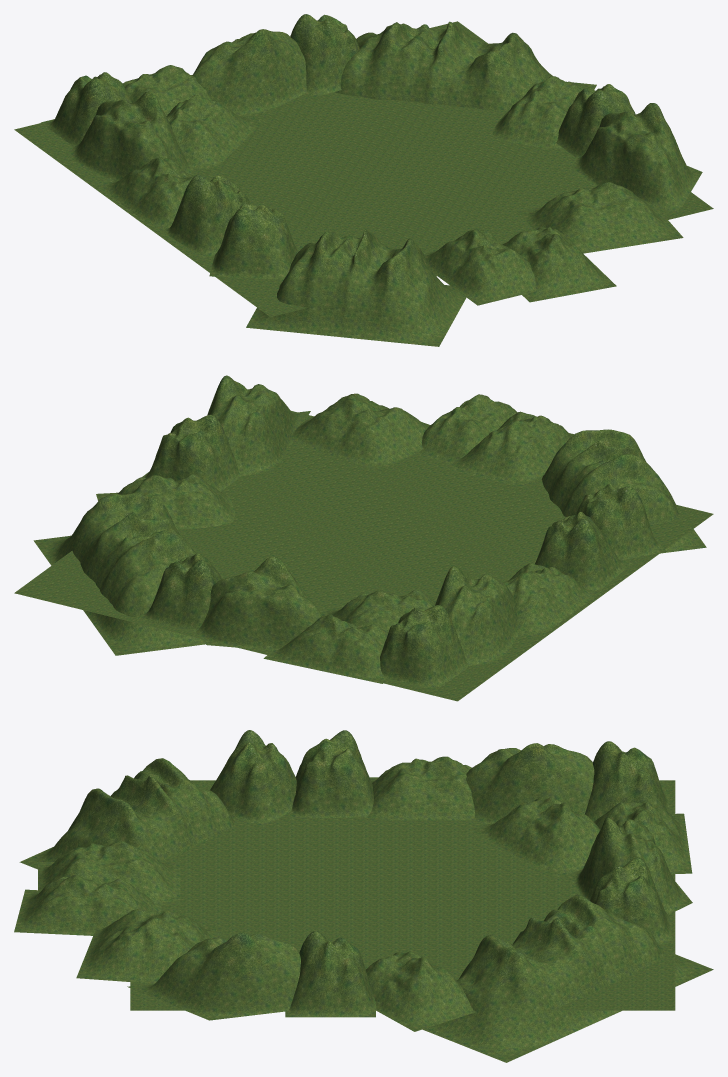
Rendered from Terreno_Pasdo_Plano.glb.
The picture shows the model from 3 angles, top to bottom: view 1: azimuth 30°, elevation 25°; view 2: azimuth 150°, elevation 25°; view 3: azimuth 270°, elevation 25°; orthographic projection. The views are drawn at different scales.
Visible parts, largest first — view 1: Plane, Retopo_Landscape.018, Retopo_Landscape.017, Retopo_Landscape.015, Retopo_Landscape.005, Retopo_Landscape.008, Retopo_Landscape.001, Retopo_Landscape.016, Retopo_Landscape.007, Retopo_Landscape.011, Retopo_Landscape.010, Retopo_Landscape.009 (+6 smaller); view 2: Plane, Retopo_Landscape.017, Retopo_Landscape.018, Retopo_Landscape.005, Retopo_Landscape.008, Retopo_Landscape.015, Retopo_Landscape.001, Retopo_Landscape.002, Retopo_Landscape.016, Retopo_Landscape.006, Retopo_Landscape.014, Retopo_Landscape.009 (+6 smaller); view 3: Plane, Retopo_Landscape.017, Retopo_Landscape.018, Retopo_Landscape.015, Retopo_Landscape.001, Retopo_Landscape.008, Retopo_Landscape.010, Retopo_Landscape.011, Retopo_Landscape.004, Retopo_Landscape.012, Retopo_Landscape.014, Retopo_Landscape.009 (+6 smaller).
Boxes of the visible parts, x1,y1,x2,y2 form: Plane: (14, 21, 713, 316); Retopo_Landscape.018: (246, 229, 466, 346); Retopo_Landscape.017: (335, 21, 596, 110); Retopo_Landscape.015: (569, 103, 702, 216); Retopo_Landscape.005: (192, 29, 306, 117); Retopo_Landscape.008: (517, 182, 683, 253); Retopo_Landscape.001: (65, 91, 193, 180); Retopo_Landscape.016: (423, 229, 538, 305); Retopo_Landscape.007: (209, 204, 303, 279); Retopo_Landscape.011: (502, 227, 616, 302); Retopo_Landscape.010: (166, 95, 264, 171); Retopo_Landscape.009: (164, 174, 250, 258); Plane: (14, 411, 713, 701); Retopo_Landscape.017: (33, 492, 205, 655); Retopo_Landscape.018: (542, 429, 706, 553); Retopo_Landscape.005: (196, 556, 322, 650); Retopo_Landscape.008: (289, 393, 430, 471); Retopo_Landscape.015: (207, 375, 310, 475); Retopo_Landscape.001: (435, 565, 518, 665); Retopo_Landscape.002: (380, 605, 469, 690); Retopo_Landscape.016: (444, 411, 573, 487); Retopo_Landscape.006: (263, 614, 388, 683); Retopo_Landscape.014: (142, 414, 241, 491); Retopo_Landscape.009: (535, 512, 633, 591); Plane: (130, 780, 675, 1010); Retopo_Landscape.017: (422, 894, 713, 1062); Retopo_Landscape.018: (19, 758, 234, 869); Retopo_Landscape.015: (127, 933, 300, 1020); Retopo_Landscape.001: (466, 743, 594, 824); Retopo_Landscape.008: (76, 909, 223, 983); Retopo_Landscape.010: (470, 797, 600, 877); Retopo_Landscape.011: (14, 875, 161, 935); Retopo_Landscape.004: (362, 756, 476, 820); Retopo_Landscape.012: (366, 951, 475, 1031); Retopo_Landscape.014: (285, 931, 375, 1017); Retopo_Landscape.009: (289, 730, 373, 818).
Size of the model in its own units: 462 by 76.71 by 514.
18 materials, 18 textured.
